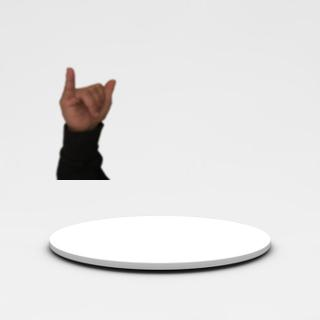HAVE: (54, 63, 119, 130)
